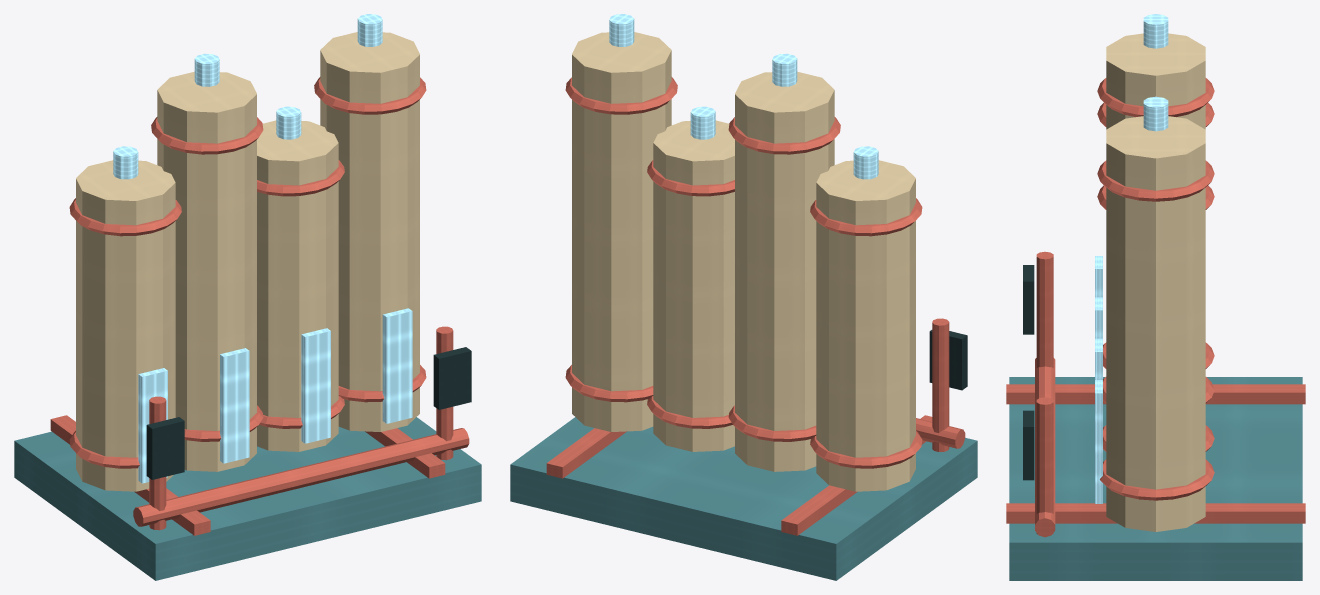
File: atlas100-s072-a04.lod1.glb
3 views of the same model, side by side, from view 1: azimuth 30°, elevation 25°; view 2: azimuth 150°, elevation 25°; view 3: azimuth 270°, elevation 25° (orthographic). The views are drawn at different scales.
Visible parts, largest first — view 1: atlas100-s072-a04:part-000, atlas100-s072-a04:part-018, atlas100-s072-a04:part-008, atlas100-s072-a04:part-003, atlas100-s072-a04:part-013, atlas100-s072-a04:part-027, atlas100-s072-a04:part-022, atlas100-s072-a04:part-012, atlas100-s072-a04:part-017, atlas100-s072-a04:part-024, atlas100-s072-a04:part-026, atlas100-s072-a04:part-007 (+16 smaller); view 2: atlas100-s072-a04:part-000, atlas100-s072-a04:part-008, atlas100-s072-a04:part-018, atlas100-s072-a04:part-003, atlas100-s072-a04:part-013, atlas100-s072-a04:part-023, atlas100-s072-a04:part-001, atlas100-s072-a04:part-002, atlas100-s072-a04:part-010, atlas100-s072-a04:part-020, atlas100-s072-a04:part-004, atlas100-s072-a04:part-005 (+10 smaller); view 3: atlas100-s072-a04:part-018, atlas100-s072-a04:part-000, atlas100-s072-a04:part-008, atlas100-s072-a04:part-002, atlas100-s072-a04:part-001, atlas100-s072-a04:part-025, atlas100-s072-a04:part-023, atlas100-s072-a04:part-027, atlas100-s072-a04:part-020, atlas100-s072-a04:part-019, atlas100-s072-a04:part-010, atlas100-s072-a04:part-022 (+4 smaller).
Boxes of the visible parts, box(x1,y1,x2,y2) form: atlas100-s072-a04:part-000: box(14, 417, 481, 580); atlas100-s072-a04:part-018: box(320, 32, 419, 431); atlas100-s072-a04:part-008: box(157, 71, 256, 471); atlas100-s072-a04:part-003: box(76, 160, 175, 491); atlas100-s072-a04:part-013: box(257, 120, 338, 451); atlas100-s072-a04:part-027: box(133, 428, 469, 526); atlas100-s072-a04:part-022: box(382, 308, 412, 423); atlas100-s072-a04:part-012: box(220, 348, 249, 463); atlas100-s072-a04:part-017: box(301, 328, 330, 443); atlas100-s072-a04:part-024: box(146, 417, 184, 479); atlas100-s072-a04:part-026: box(433, 347, 471, 409); atlas100-s072-a04:part-007: box(138, 368, 167, 483); atlas100-s072-a04:part-000: box(510, 417, 977, 580); atlas100-s072-a04:part-008: box(735, 71, 834, 471); atlas100-s072-a04:part-018: box(572, 32, 671, 431); atlas100-s072-a04:part-003: box(816, 160, 915, 491); atlas100-s072-a04:part-013: box(653, 120, 734, 451); atlas100-s072-a04:part-023: box(932, 318, 949, 451); atlas100-s072-a04:part-001: box(781, 415, 932, 535); atlas100-s072-a04:part-002: box(546, 428, 626, 478); atlas100-s072-a04:part-010: box(728, 117, 840, 154); atlas100-s072-a04:part-020: box(565, 77, 677, 114); atlas100-s072-a04:part-004: box(810, 431, 922, 468); atlas100-s072-a04:part-005: box(810, 198, 922, 236); atlas100-s072-a04:part-018: box(1106, 116, 1205, 531); atlas100-s072-a04:part-000: box(1009, 377, 1302, 580); atlas100-s072-a04:part-008: box(1106, 33, 1205, 129); atlas100-s072-a04:part-002: box(1006, 503, 1305, 523); atlas100-s072-a04:part-001: box(1006, 384, 1305, 404); atlas100-s072-a04:part-025: box(1036, 397, 1053, 534); atlas100-s072-a04:part-023: box(1036, 251, 1053, 368); atlas100-s072-a04:part-027: box(1035, 358, 1055, 537); atlas100-s072-a04:part-020: box(1097, 160, 1214, 201); atlas100-s072-a04:part-019: box(1100, 459, 1214, 500); atlas100-s072-a04:part-010: box(1097, 78, 1214, 116); atlas100-s072-a04:part-022: box(1095, 380, 1102, 503).
Size of the model in its own units: 2.52 by 3.1 by 1.84.
Materials: 5 (5 with a texture image).
